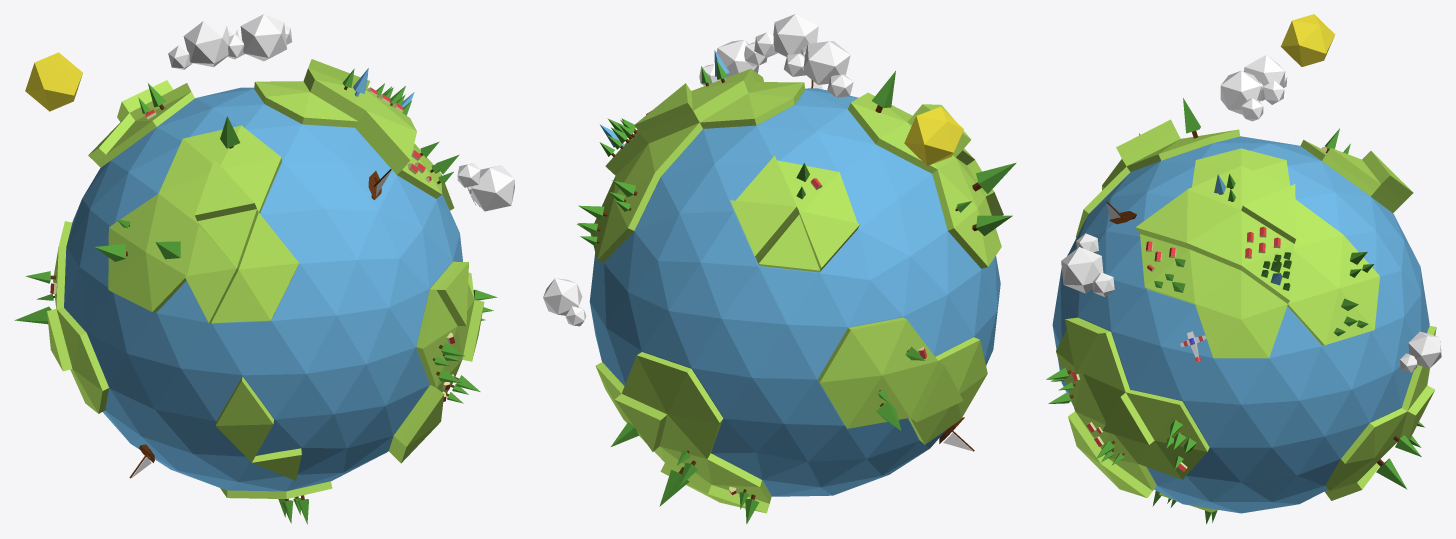
Rendered from planet.gltf.
3 views of the same model, side by side, from view 1: azimuth 30°, elevation 25°; view 2: azimuth 150°, elevation 25°; view 3: azimuth 270°, elevation 25° (orthographic). The views are drawn at different scales.
Parts seen in each view (by area): view 1: Icosphere.001, Icosphere, Icosphere.006, Icosphere.005, Icosphere.003, Icosphere.002; view 2: Icosphere.001, Icosphere, Icosphere.005, Icosphere.006, Icosphere.003, Icosphere.002, Icosphere.004, Plane.056; view 3: Icosphere.001, Icosphere, Icosphere.002, Icosphere.006, Icosphere.003, Icosphere.005, Icosphere.004.
Part boxes in pixels (x1,y1,x2,y2): Icosphere.001: (64,87,462,491); Icosphere: (47,59,484,498); Icosphere.006: (25,52,82,111); Icosphere.005: (168,21,238,69); Icosphere.003: (227,14,292,61); Icosphere.002: (457,163,514,211); Icosphere.001: (589,88,1000,496); Icosphere: (590,68,1003,513); Icosphere.005: (784,41,853,97); Icosphere.006: (904,106,963,165); Icosphere.003: (754,14,818,57); Icosphere.002: (699,40,767,85); Icosphere.004: (543,278,586,326); Plane.056: (972,162,1016,193); Icosphere.001: (1052,136,1429,513); Icosphere: (1056,119,1436,512); Icosphere.002: (1061,233,1114,296); Icosphere.006: (1280,14,1335,66); Icosphere.003: (1220,70,1263,121); Icosphere.005: (1244,54,1287,104); Icosphere.004: (1400,331,1441,372).
Bounding box in the file's own units: 7.52 × 8.94 × 7.09.
